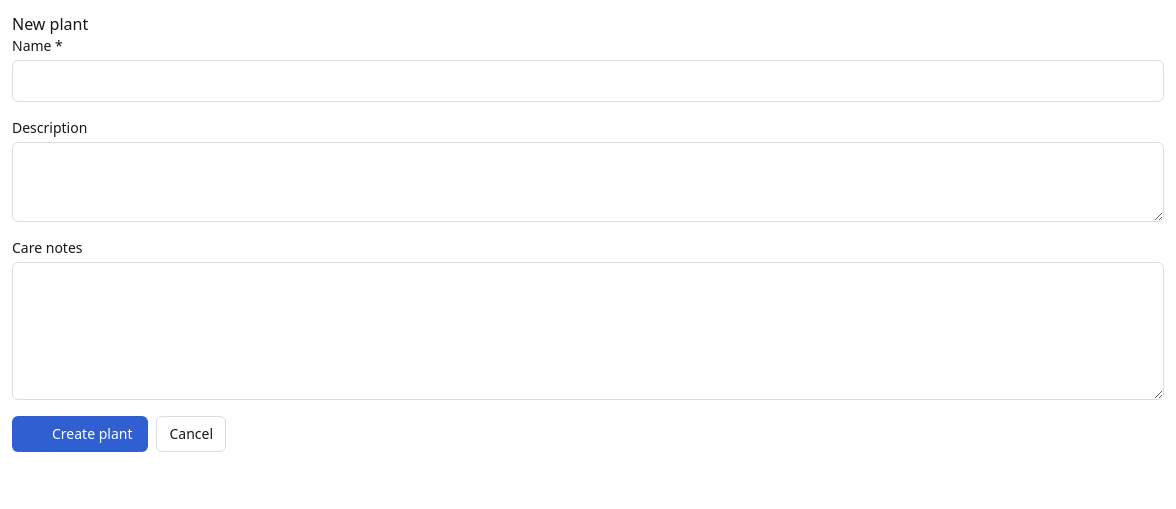
Test: shows a generic error toast-worthy message for a non-field error
This screenshot has width=1176, height=509.
Step 1. Type "Fern" into the field labelled "Name *" → (588, 81), box [12,60,1164,102]
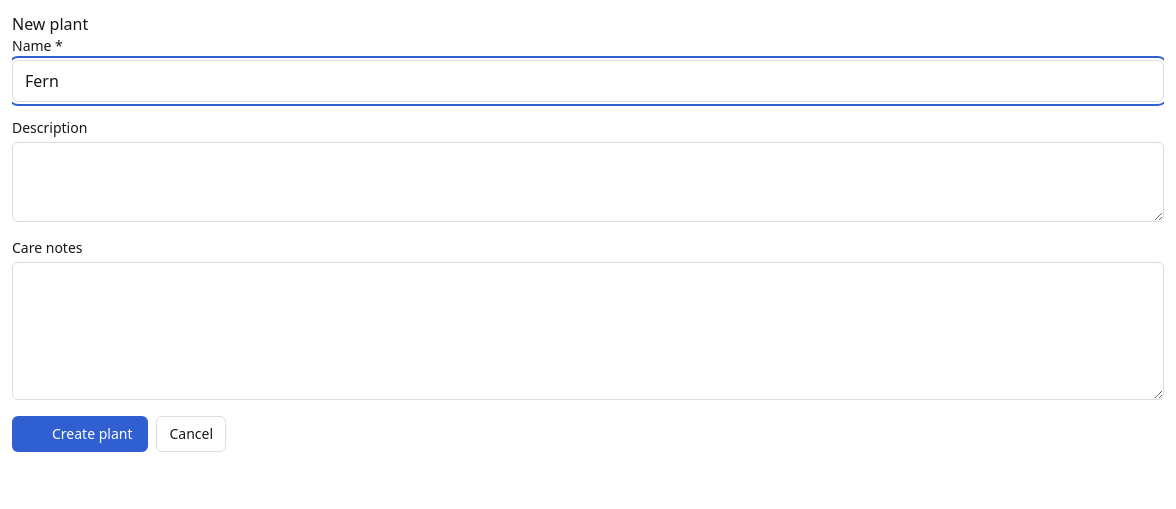
Step 2. Click the button "Create plant" → (80, 434), box [12,416,148,452]
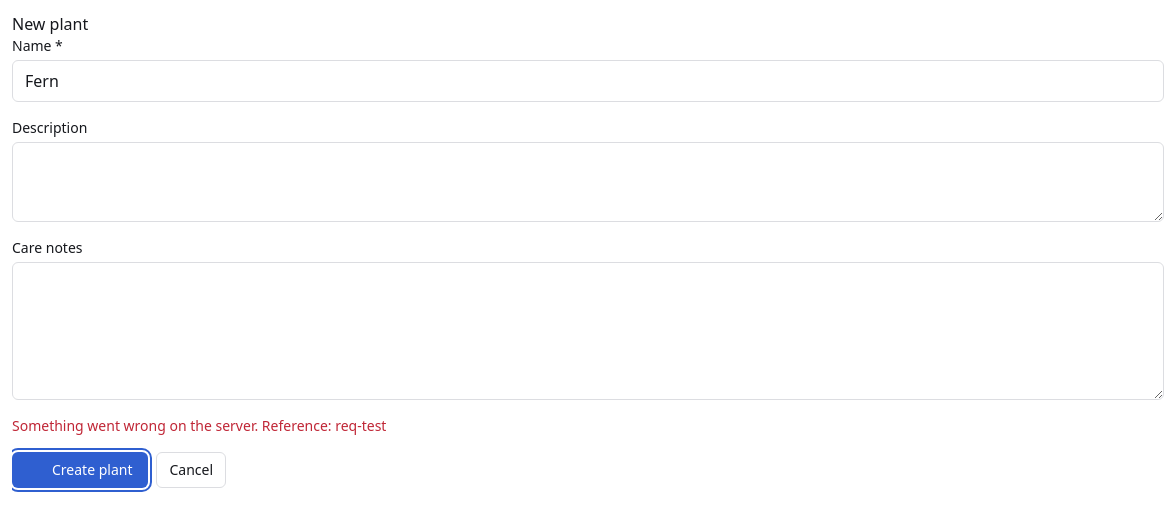
Check: the text "Something went wrong on the server. Reference: req-test" is shown, box [12,416,386,435]
